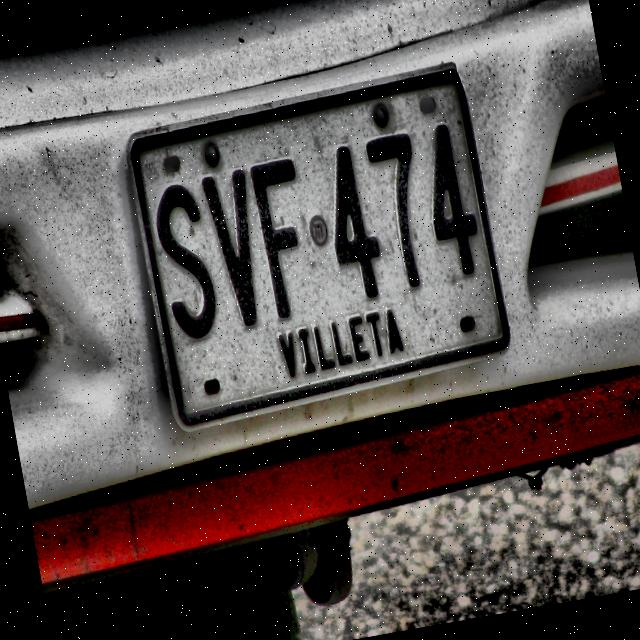plate: (125, 61, 512, 433)
